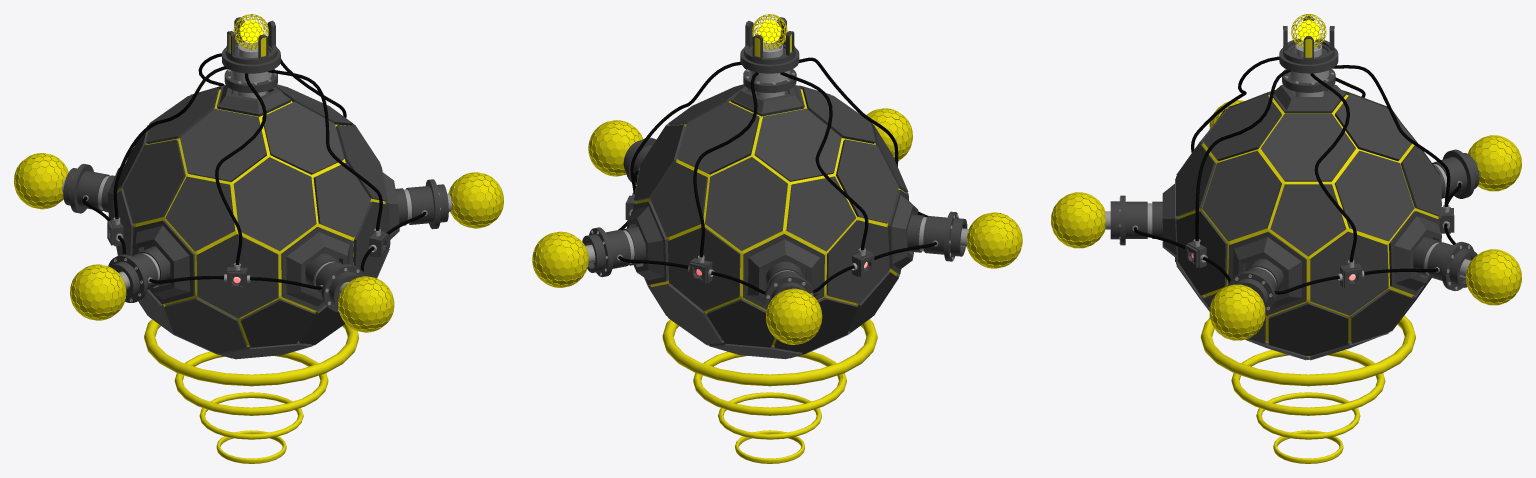
File: Reactor.glb
3 views of the same model, side by side, from view 1: azimuth 30°, elevation 25°; view 2: azimuth 150°, elevation 25°; view 3: azimuth 270°, elevation 25° (orthographic).
Visible parts, largest first — view 1: Cylinder.007; view 2: Cylinder.007; view 3: Cylinder.007.
Part boxes in pixels (bbox=[...]): Cylinder.007: bbox=[14, 14, 503, 463]; Cylinder.007: bbox=[532, 14, 1022, 463]; Cylinder.007: bbox=[1051, 14, 1521, 463].
Size of the model in its own units: 3.27 by 3.18 by 3.13.
